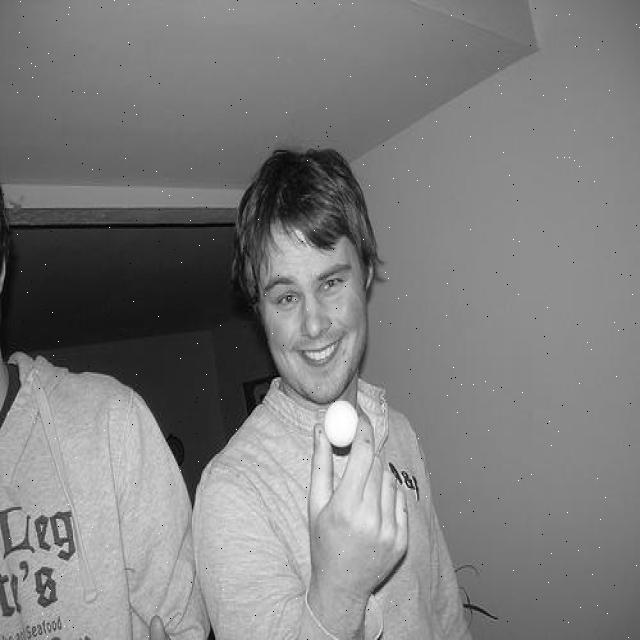ping-pong-ball: (324, 400, 360, 448)
